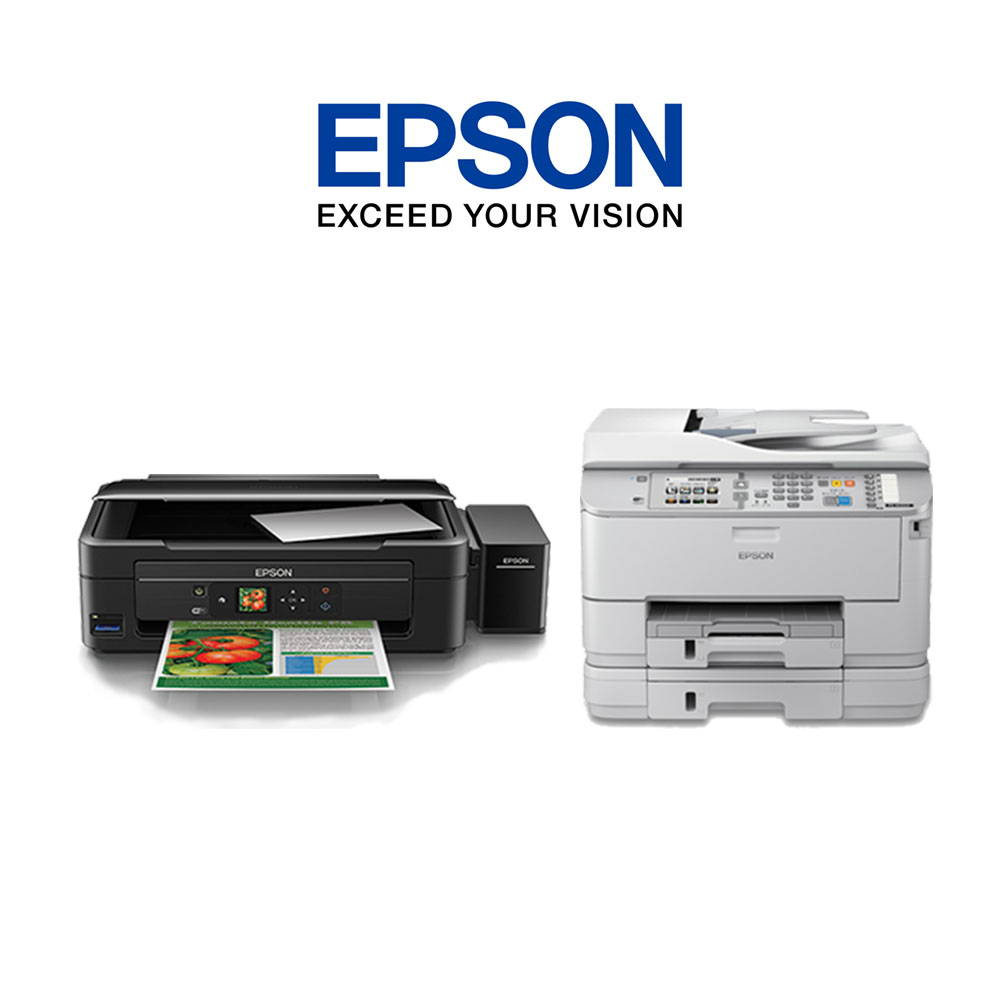printer: (61, 451, 559, 718), (569, 394, 931, 729)
